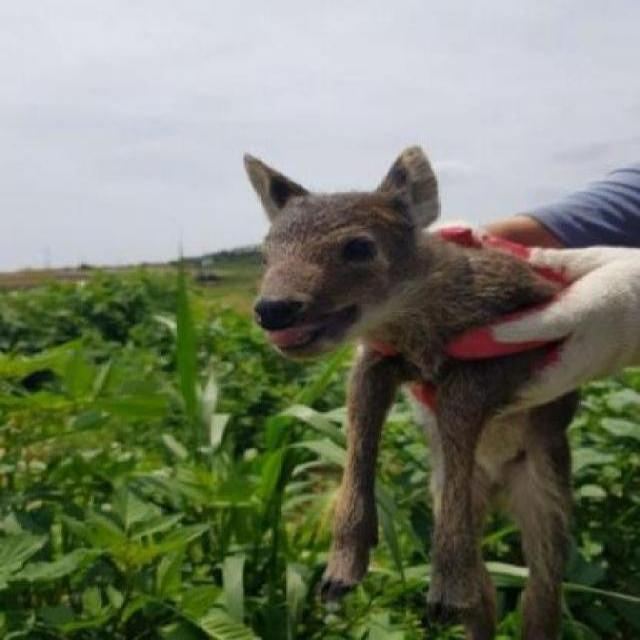deer: (240, 146, 594, 637)
